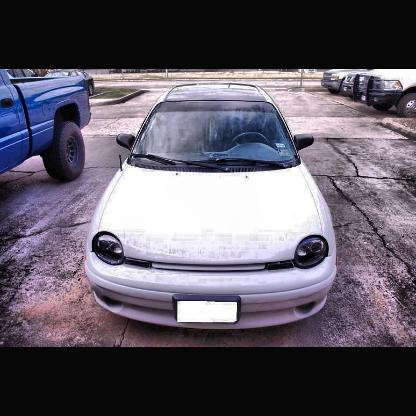Plymouth Neon Coupe 1999: (84, 79, 343, 334)
